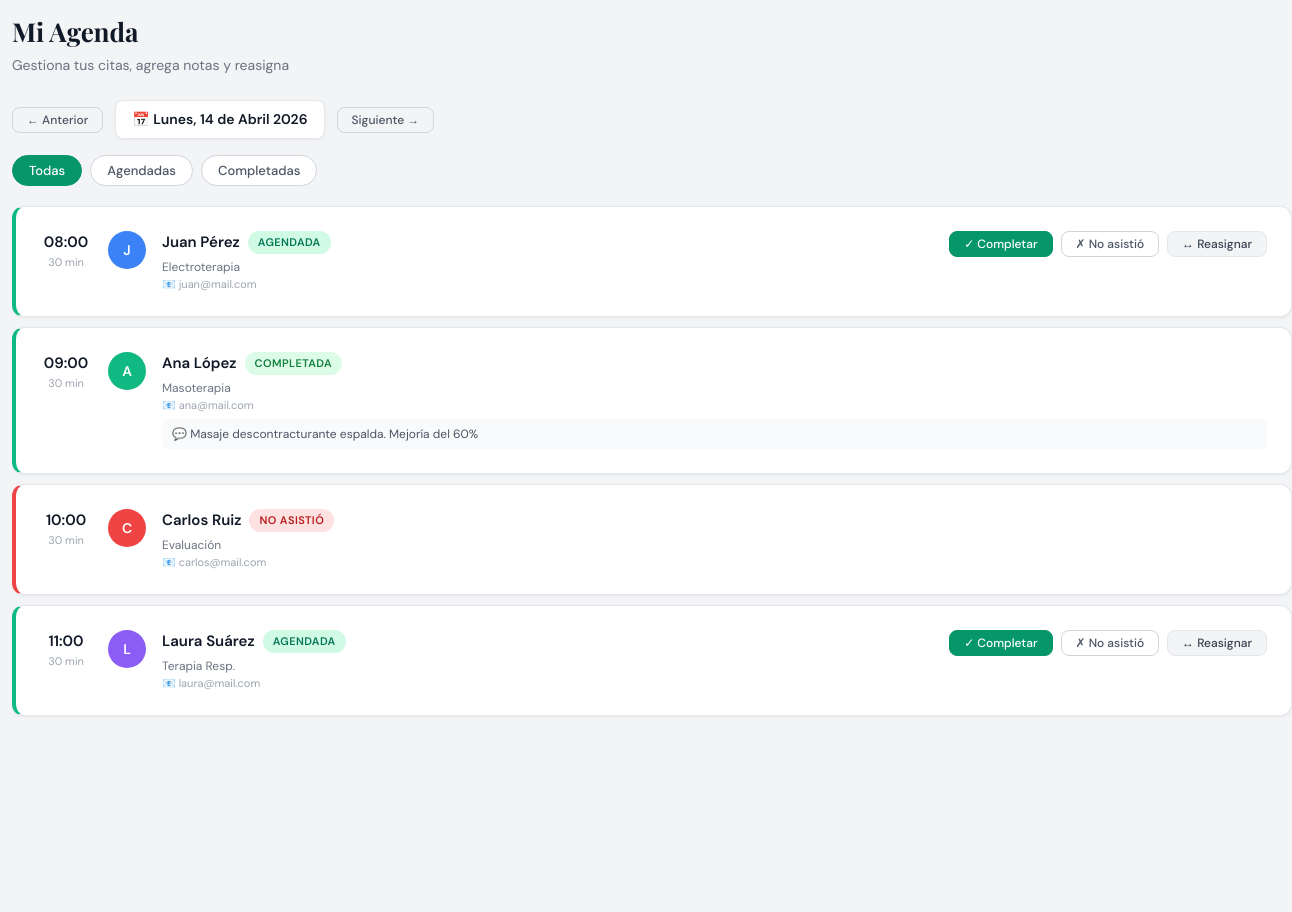
Test: <MiAgenda /> › filtra citas por "Agendadas"
The width and height of the screenshot is (1292, 912).
Click the button "Agendadas" at [142, 170], box [90,155,193,186]
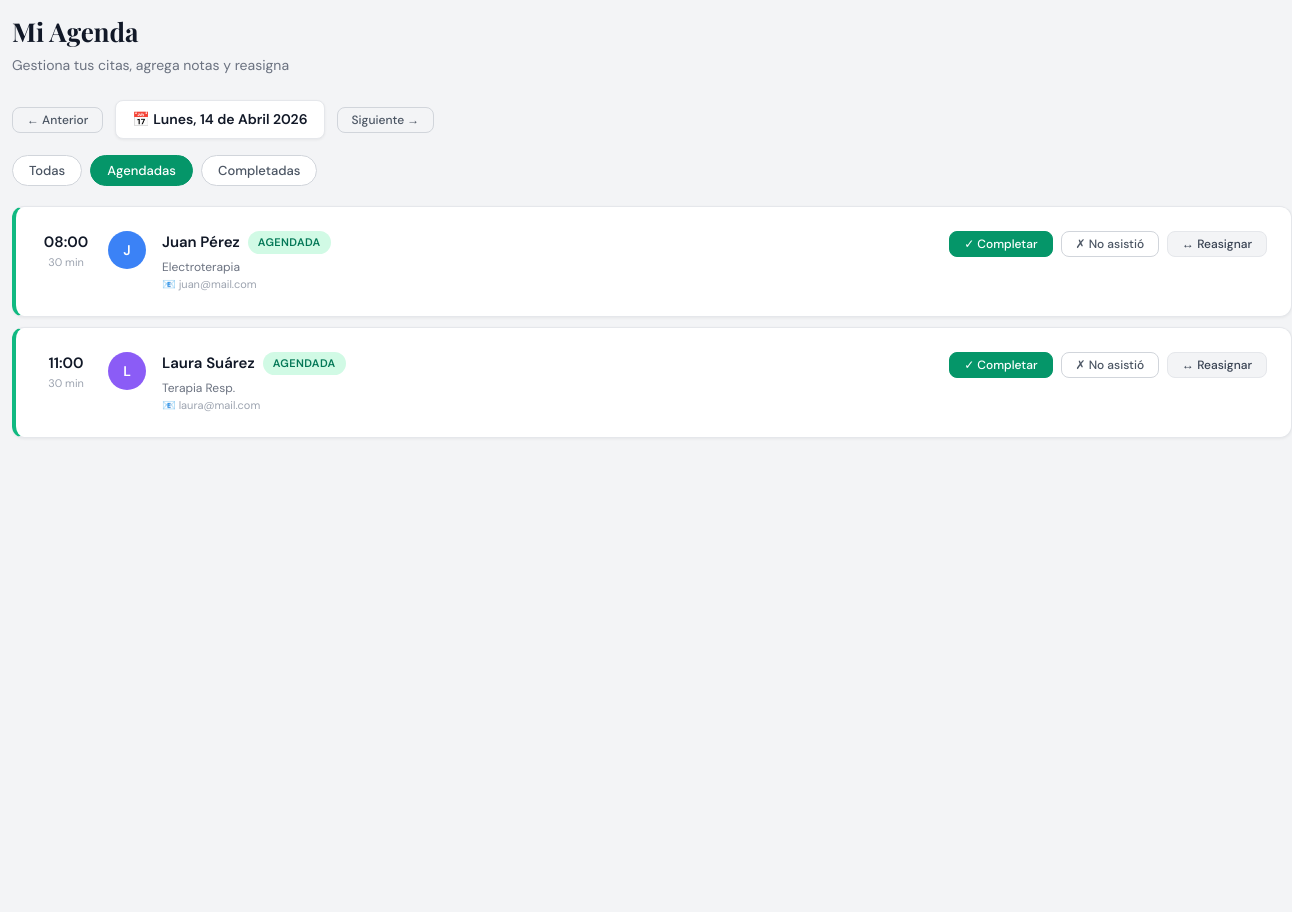
Expected: the text "Juan Pérez" is shown, [162,231,240,254]
Now the text "Ana López" is gone
Now the text "Carlos Ruiz" is gone
